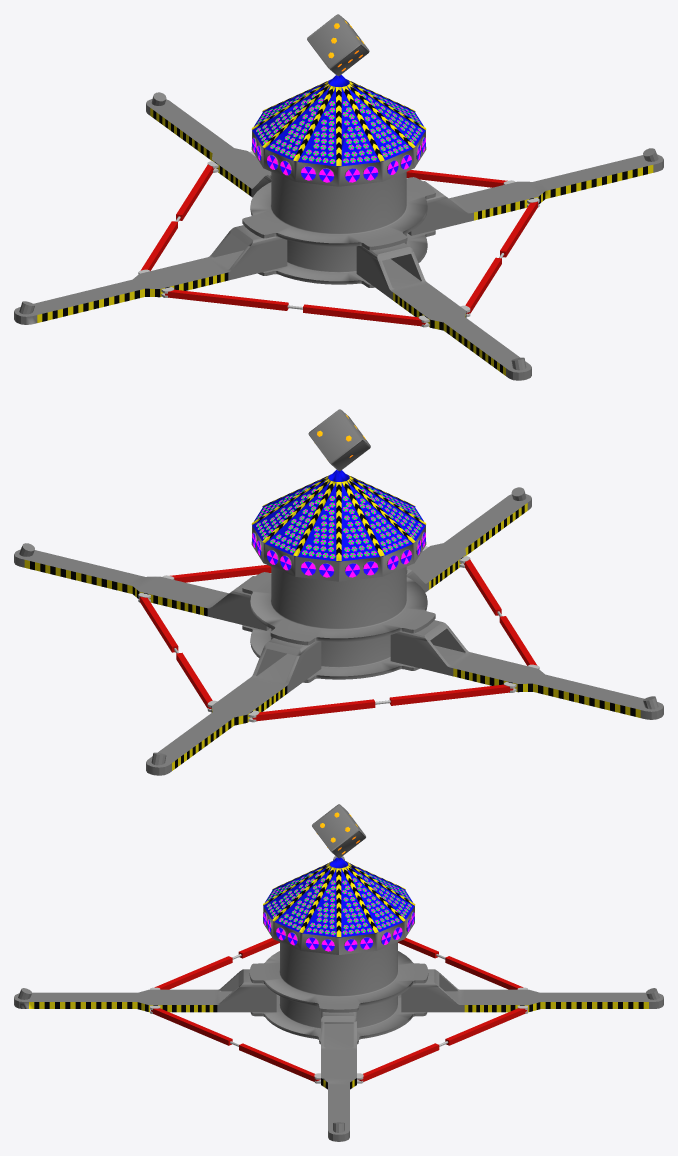
Rendered from DomDancerKreuzShader_1.glb.
The picture shows the model from 3 angles, top to bottom: view 1: azimuth 30°, elevation 25°; view 2: azimuth 150°, elevation 25°; view 3: azimuth 270°, elevation 25°; orthographic projection. The views are drawn at different scales.
Parts seen in each view (by area): view 1: GondelKreuzBase; view 2: GondelKreuzBase; view 3: GondelKreuzBase.
Boxes of the visible parts, x1,y1,x2,y2 form: GondelKreuzBase: (14,14,663,380); GondelKreuzBase: (14,409,663,775); GondelKreuzBase: (14,804,663,1141).
Bounding box in the file's own units: 4.12 × 1.46 × 4.12.
